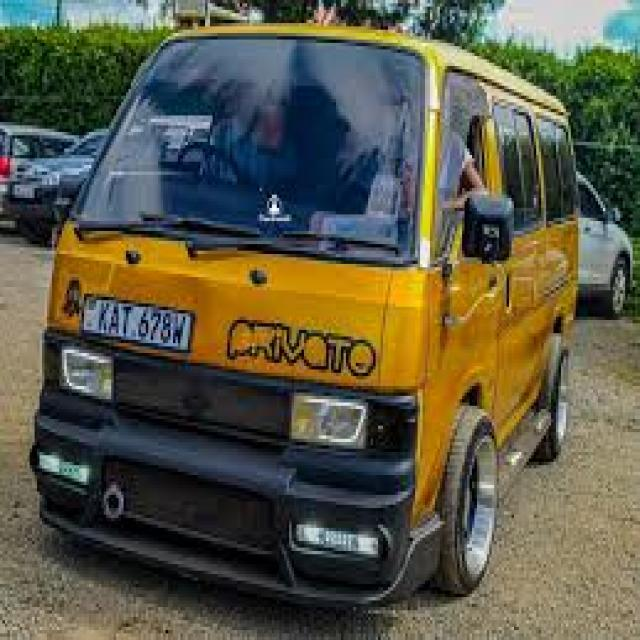matatu: (22, 5, 605, 636)
